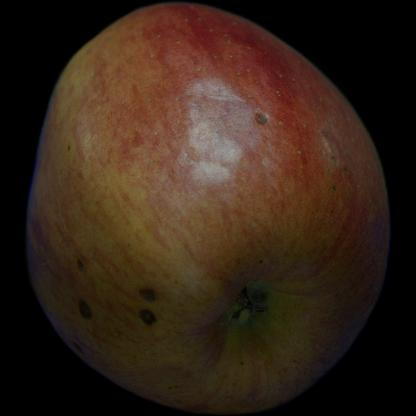defect: (58, 248, 160, 346)
